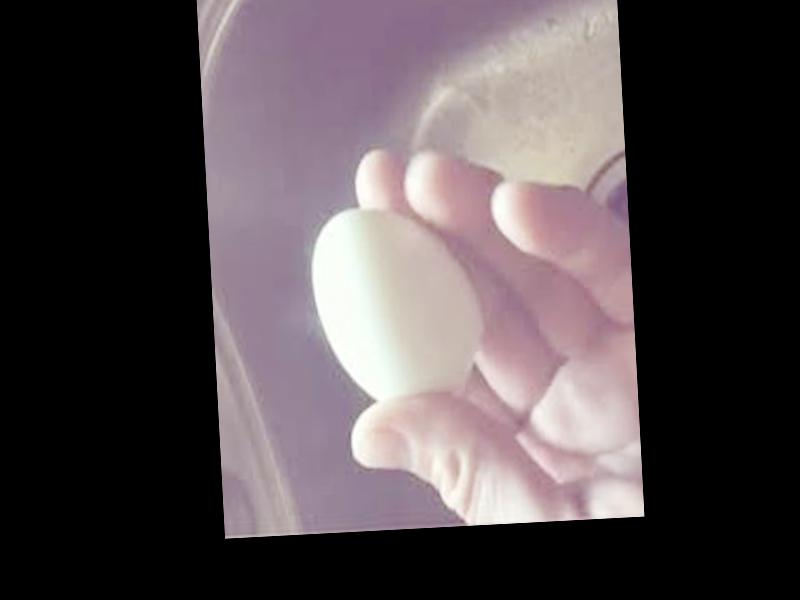Eggs: (309, 206, 481, 408)
